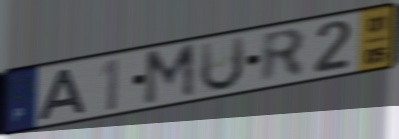1: (100, 56, 120, 113)
2: (313, 19, 356, 77)
A: (35, 67, 89, 123)
M: (142, 41, 198, 109)
R: (260, 26, 308, 86)
U: (198, 33, 247, 95)
